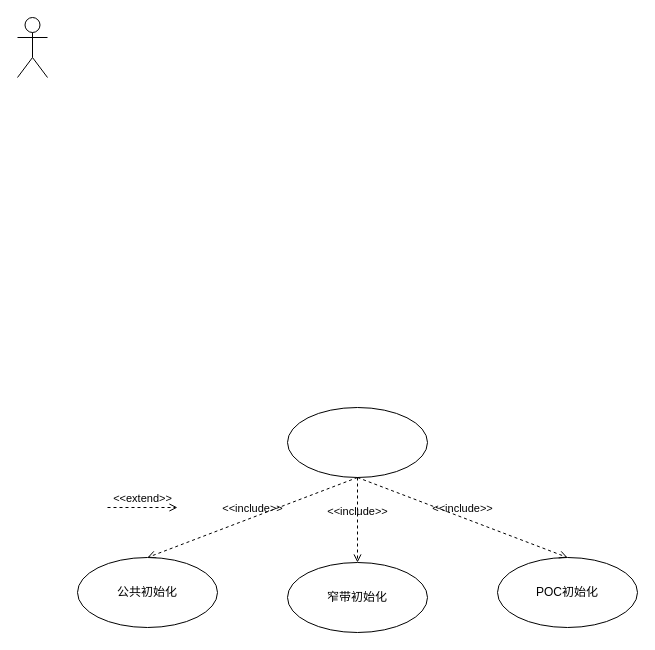
Image size: 655x650. Some labels were removed from this diagram. The centre of each missing label's shape, as x and y in pixels:
Actor: (x=32, y=47)
系统启动: (x=357, y=442)
